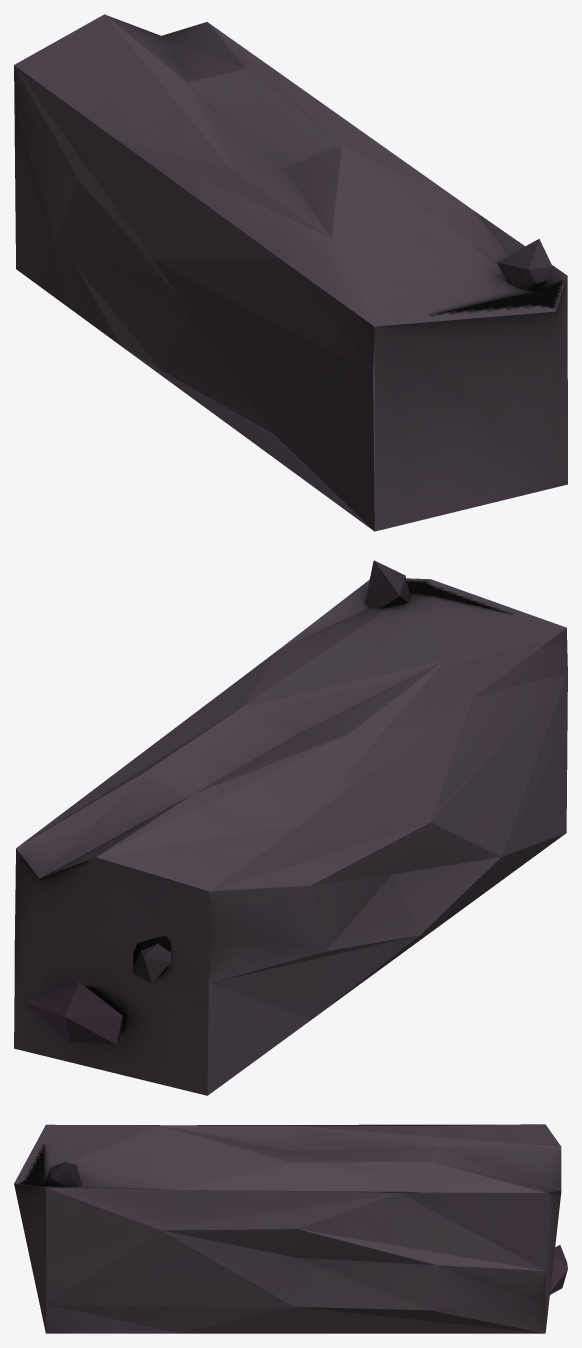
The model's file is ground3.FBX.
3 views of the same model, one above another, from view 1: azimuth 30°, elevation 25°; view 2: azimuth 150°, elevation 25°; view 3: azimuth 270°, elevation 25° (orthographic). The views are drawn at different scales.
Parts seen in each view (by area): view 1: ground3; view 2: ground3; view 3: ground3.
Part boxes in pixels (left/top/right/bottom): ground3: left=14, top=14, right=567, bottom=531; ground3: left=14, top=560, right=567, bottom=1095; ground3: left=14, top=1124, right=567, bottom=1333.
Bounding box in the file's own units: 41.51 × 35.63 × 107.
